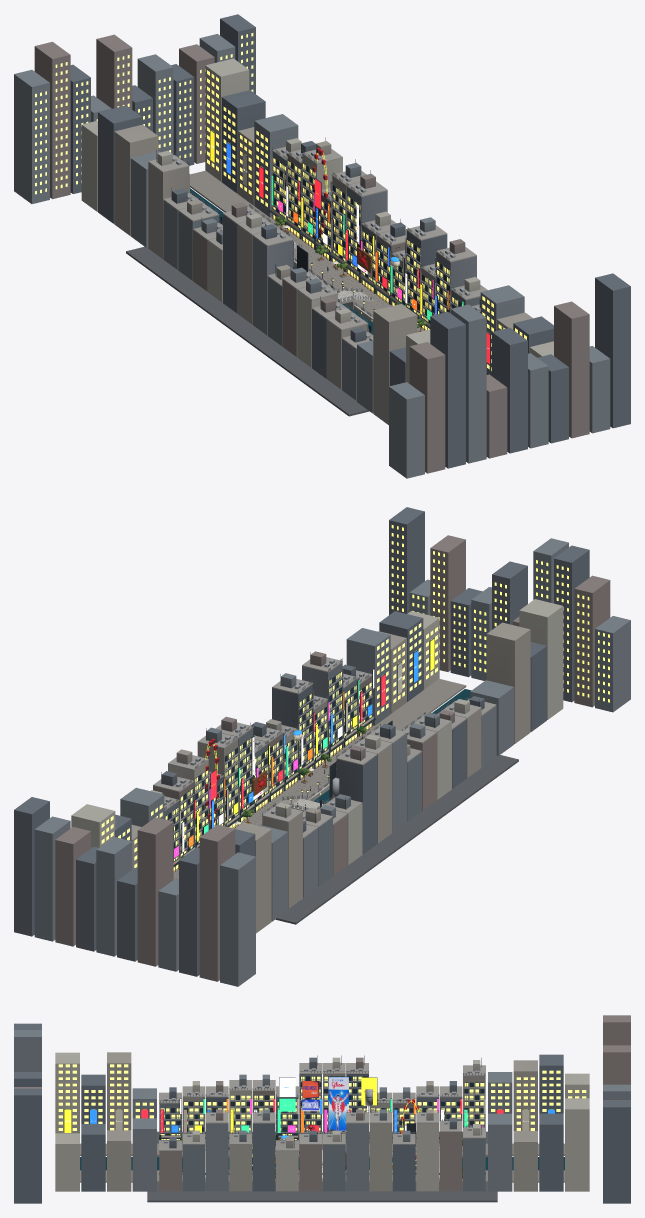
File: dotonbori.glb
3 renders of one model, top to bottom at view 1: azimuth 30°, elevation 25°; view 2: azimuth 150°, elevation 25°; view 3: azimuth 270°, elevation 25°, orthographic. The views are drawn at different scales.
Parts seen in each view (by area): view 1: Dotonbori facade 0, Dotonbori facade 2, Dotonbori facade 4, Dotonbori facade 1, Dotonbori facade 3, Dotonbori lantern glow, Dotonbori limestone, Dotonbori paving joints, Dotonbori graphite steel, Dotonbori shop glass, Dotonbori facade 5, Dotonbori brushed rails (+3 smaller); view 2: Dotonbori facade 0, Dotonbori facade 2, Dotonbori facade 4, Dotonbori facade 1, Dotonbori facade 3, Dotonbori lantern glow, Dotonbori limestone, Dotonbori paving joints, Dotonbori graphite steel, Dotonbori shop glass, Dotonbori facade 5, Dotonbori promenade paving (+2 smaller); view 3: Dotonbori facade 2, Dotonbori facade 0, Dotonbori facade 1, Dotonbori facade 3, Dotonbori facade 4, Dotonbori limestone, Dotonbori lantern glow, Dotonbori paving joints, Dotonbori facade 5, Dotonbori shop glass, Dotonbori brushed rails, Dotonbori graphite steel (+10 smaller).
Boxes of the visible parts, x1=… form: Dotonbori facade 0: x1=14, y1=34, x2=610, y2=478; Dotonbori facade 2: x1=70, y1=14, x2=630, y2=468; Dotonbori facade 4: x1=34, y1=34, x2=589, y2=473; Dotonbori facade 1: x1=114, y1=124, x2=532, y2=424; Dotonbori facade 3: x1=81, y1=58, x2=553, y2=383; Dotonbori lantern glow: x1=35, y1=33, x2=526, y2=370; Dotonbori limestone: x1=148, y1=146, x2=487, y2=349; Dotonbori paving joints: x1=126, y1=217, x2=382, y2=416; Dotonbori graphite steel: x1=156, y1=129, x2=490, y2=364; Dotonbori shop glass: x1=272, y1=149, x2=461, y2=329; Dotonbori facade 5: x1=178, y1=151, x2=480, y2=345; Dotonbori brushed rails: x1=172, y1=148, x2=480, y2=340; Dotonbori facade 0: x1=34, y1=538, x2=630, y2=986; Dotonbori facade 2: x1=14, y1=507, x2=589, y2=976; Dotonbori facade 4: x1=55, y1=535, x2=610, y2=981; Dotonbori facade 1: x1=131, y1=622, x2=530, y2=933; Dotonbori facade 3: x1=71, y1=599, x2=563, y2=865; Dotonbori lantern glow: x1=101, y1=525, x2=609, y2=871; Dotonbori limestone: x1=153, y1=657, x2=496, y2=838; Dotonbori paving joints: x1=177, y1=725, x2=518, y2=924; Dotonbori graphite steel: x1=161, y1=638, x2=479, y2=866; Dotonbori shop glass: x1=166, y1=671, x2=371, y2=871; Dotonbori facade 5: x1=164, y1=679, x2=439, y2=886; Dotonbori promenade paving: x1=173, y1=679, x2=466, y2=879; Dotonbori facade 2: x1=14, y1=1023, x2=630, y2=1203; Dotonbori facade 0: x1=14, y1=1030, x2=630, y2=1191; Dotonbori facade 1: x1=107, y1=1052, x2=537, y2=1191; Dotonbori facade 3: x1=55, y1=1052, x2=589, y2=1191; Dotonbori facade 4: x1=14, y1=1015, x2=630, y2=1191; Dotonbori limestone: x1=159, y1=1063, x2=485, y2=1179; Dotonbori lantern glow: x1=58, y1=1064, x2=586, y2=1165; Dotonbori paving joints: x1=147, y1=1131, x2=497, y2=1202; Dotonbori facade 5: x1=182, y1=1074, x2=485, y2=1191; Dotonbori shop glass: x1=161, y1=1076, x2=484, y2=1139; Dotonbori brushed rails: x1=159, y1=1068, x2=485, y2=1170; Dotonbori graphite steel: x1=64, y1=1056, x2=555, y2=1174.
Bounding box in the file's own units: 87 × 54.94 × 264.
Materials: 44 (3 with a texture image).
